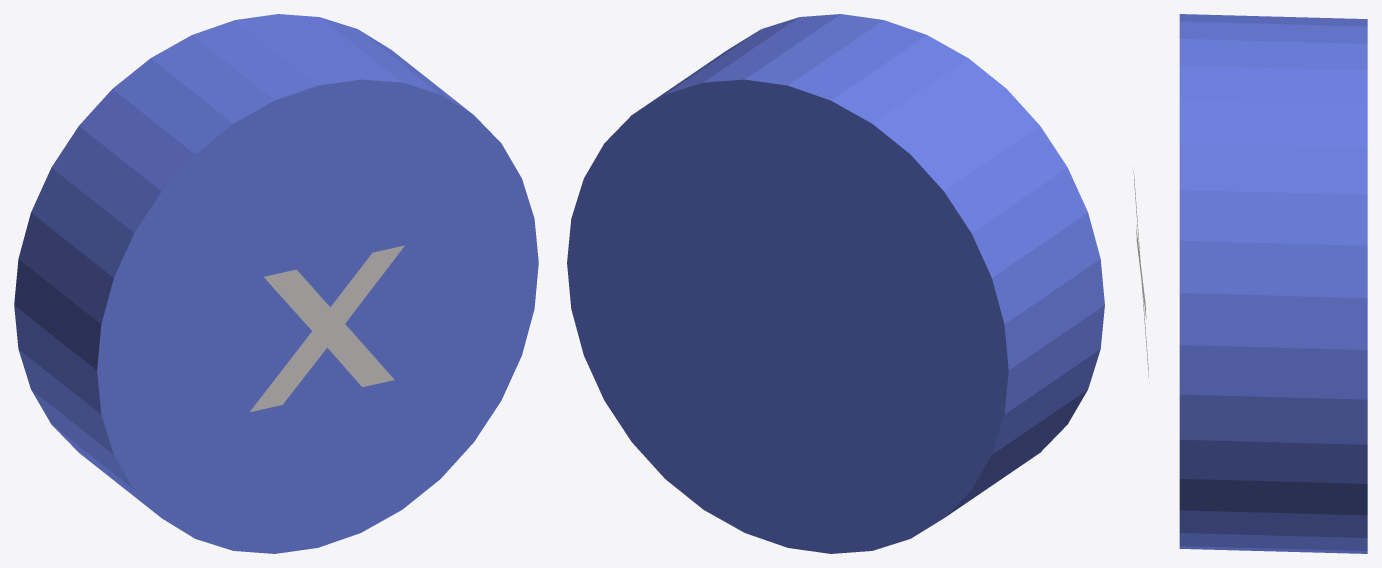
File: close.glb
3 renders of one model, left to right at view 1: azimuth 30°, elevation 25°; view 2: azimuth 150°, elevation 25°; view 3: azimuth 270°, elevation 25°, orthographic. The views are drawn at different scales.
Visible parts, largest first — view 1: Cilindro, Texto; view 2: Cilindro; view 3: Cilindro, Texto.
Part boxes in pixels (<box>): Cilindro: <box>14,14,538,553</box>; Texto: <box>250,245,404,411</box>; Cilindro: <box>567,14,1104,553</box>; Cilindro: <box>1179,14,1367,553</box>; Texto: <box>1133,166,1149,382</box>.
Bounding box in the file's own units: 0.1218 × 0.1204 × 0.0525.
